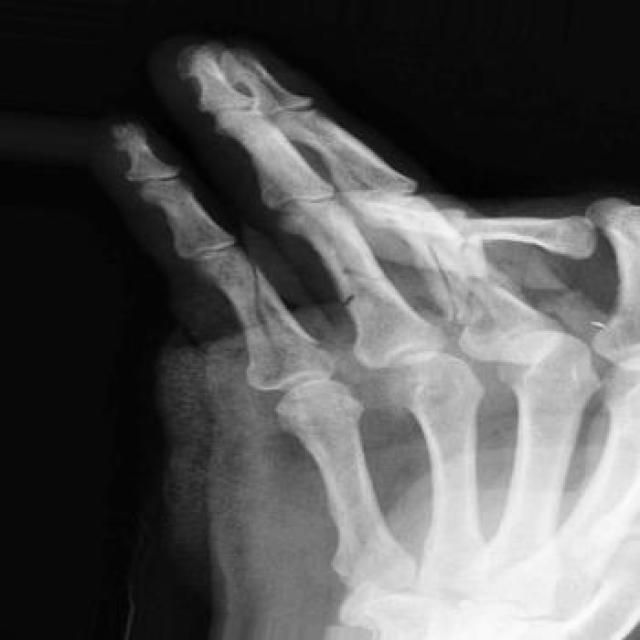Fracture: (230, 257, 284, 376), (421, 240, 480, 329), (336, 255, 392, 308)
